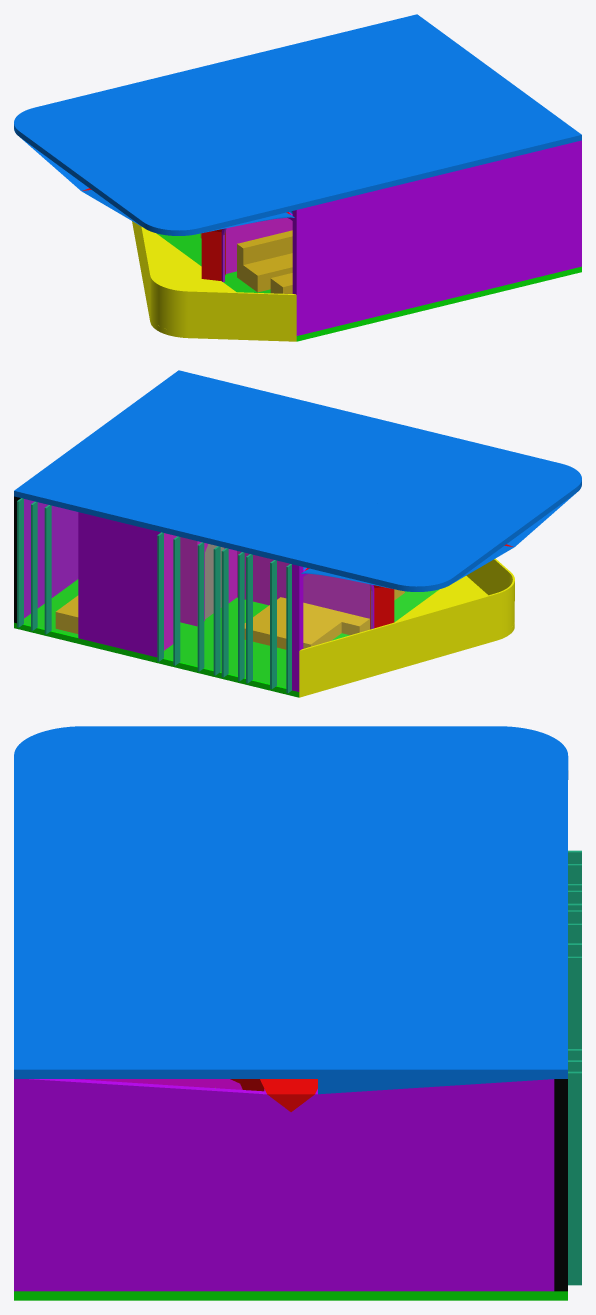
Rendered from ROOM2.glb.
3 renders of one model, top to bottom at view 1: azimuth 30°, elevation 25°; view 2: azimuth 150°, elevation 25°; view 3: azimuth 270°, elevation 25°, orthographic. The views are drawn at different scales.
Visible parts, largest first — view 1: top slabs, external walls, balconies, glasses, furniture, floors, internal walls, columns; view 2: top slabs, glasses, external walls, balconies, FINS, internal walls, floors, furniture, columns, DOORS; view 3: top slabs, external walls, FINS, floors, object 17, columns, internal walls.
Part boxes in pixels (left/top/right/bottom): top slabs: left=14, top=14, right=581, bottom=235; external walls: left=221, top=140, right=581, bottom=335; balconies: left=132, top=221, right=296, bottom=341; glasses: left=158, top=218, right=292, bottom=293; furniture: left=200, top=230, right=292, bottom=293; floors: left=156, top=233, right=581, bottom=341; internal walls: left=226, top=218, right=292, bottom=273; columns: left=82, top=188, right=290, bottom=280; top slabs: left=14, top=370, right=581, bottom=591; glasses: left=24, top=499, right=437, bottom=687; external walls: left=24, top=499, right=374, bottom=691; balconies: left=299, top=558, right=514, bottom=697; FINS: left=17, top=498, right=291, bottom=693; internal walls: left=164, top=533, right=369, bottom=650; floors: left=14, top=579, right=439, bottom=697; furniture: left=55, top=589, right=404, bottom=649; columns: left=305, top=544, right=513, bottom=629; DOORS: left=205, top=544, right=224, bottom=619; top slabs: left=14, top=726, right=568, bottom=1094; external walls: left=14, top=1079, right=554, bottom=1291; FINS: left=568, top=850, right=581, bottom=1285; floors: left=14, top=1291, right=567, bottom=1300; object 17: left=554, top=1079, right=567, bottom=1291; columns: left=230, top=1079, right=317, bottom=1111; internal walls: left=75, top=1079, right=242, bottom=1089.
Size of the model in its own units: 11.73 by 3.68 by 8.2.
